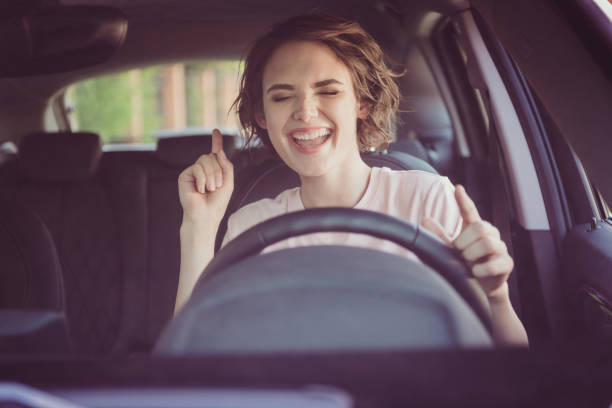without mask: (250, 38, 361, 178)
